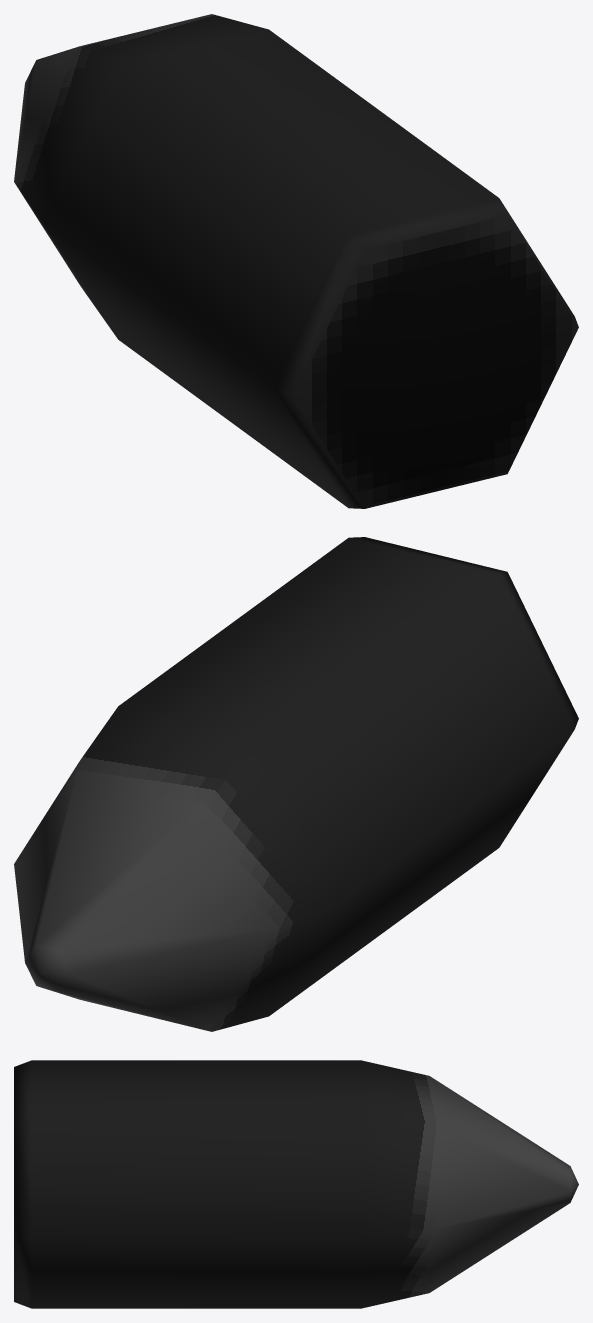
Rendered from tankammo.fbx.
3 renders of one model, top to bottom at view 1: azimuth 30°, elevation 25°; view 2: azimuth 150°, elevation 25°; view 3: azimuth 270°, elevation 25°, orthographic. The views are drawn at different scales.
Visible parts, largest first — view 1: pAmmo; view 2: pAmmo; view 3: pAmmo.
Part boxes in pixels (box(x1,y1,x2,y2)): pAmmo: box(14, 14, 578, 508); pAmmo: box(14, 537, 578, 1031); pAmmo: box(14, 1060, 578, 1308).
Size of the model in its own units: 0.3782 by 0.3275 by 0.8575.
Materials: 1 (1 with a texture image).
